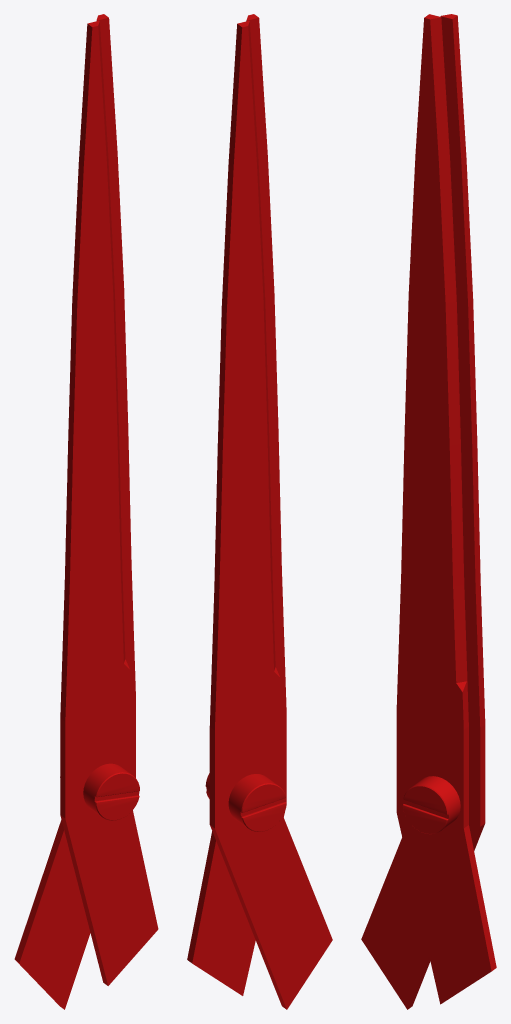
The picture shows the model from 3 angles, left to right: view 1: azimuth 30°, elevation 25°; view 2: azimuth 210°, elevation 25°; view 3: azimuth 330°, elevation 25°; orthographic projection. The views are drawn at different scales.
Size of the model in its own units: 0.093 by 0.6538 by 0.0437.
